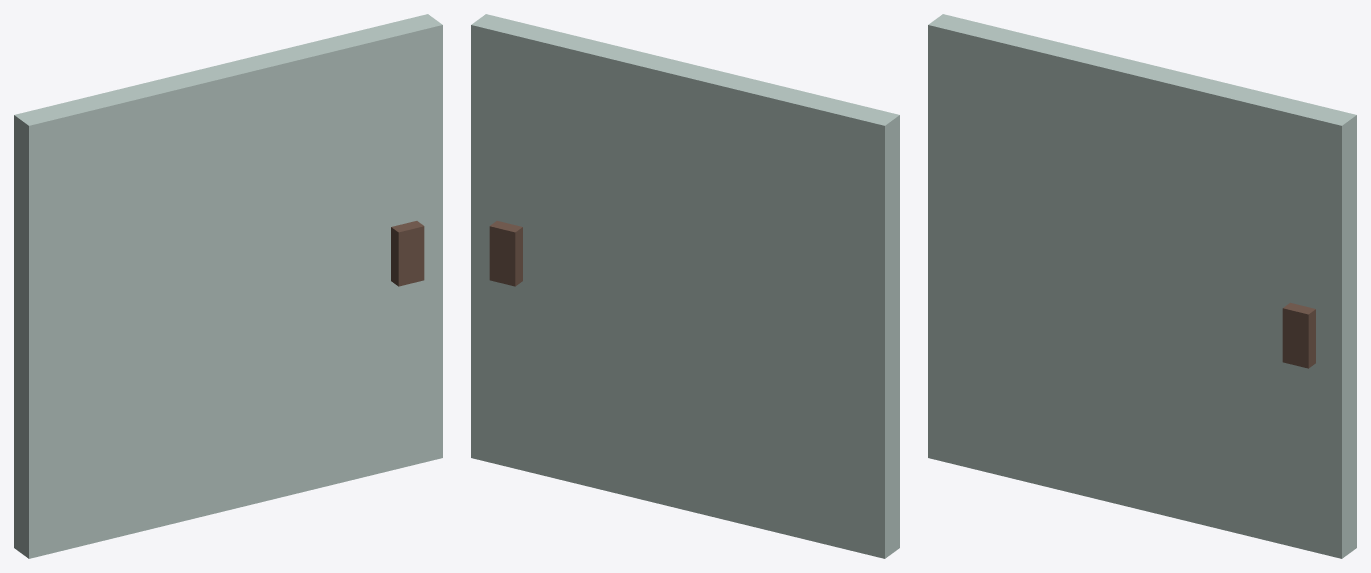
Rendered from Access_Panel.glb.
3 views of the same model, side by side, from view 1: azimuth 30°, elevation 25°; view 2: azimuth 150°, elevation 25°; view 3: azimuth 330°, elevation 25° (orthographic).
Parts seen in each view (by area): view 1: generated(Clone); view 2: generated(Clone); view 3: generated(Clone).
Boxes of the visible parts, x1,y1,x2,y2 form: generated(Clone): [14, 14, 442, 558]; generated(Clone): [471, 14, 899, 558]; generated(Clone): [928, 14, 1356, 558].
Bounding box in the file's own units: 16 × 16 × 2.
Materials: 1 (1 with a texture image).
